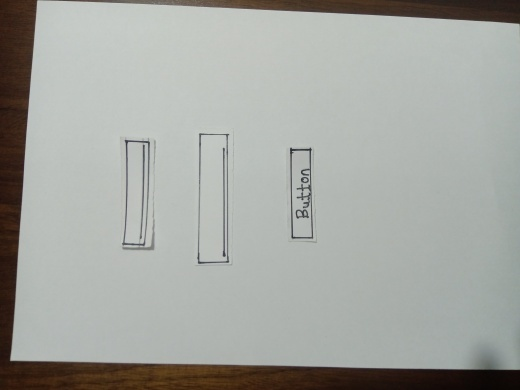button: (290, 150, 315, 239)
text: (201, 135, 228, 267), (125, 139, 148, 252)
